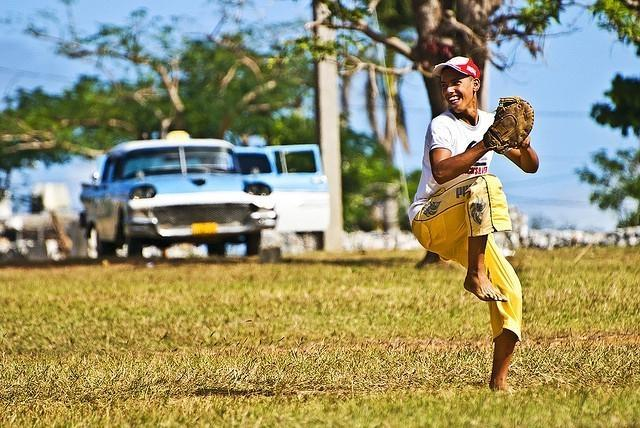car: (78, 139, 280, 260)
